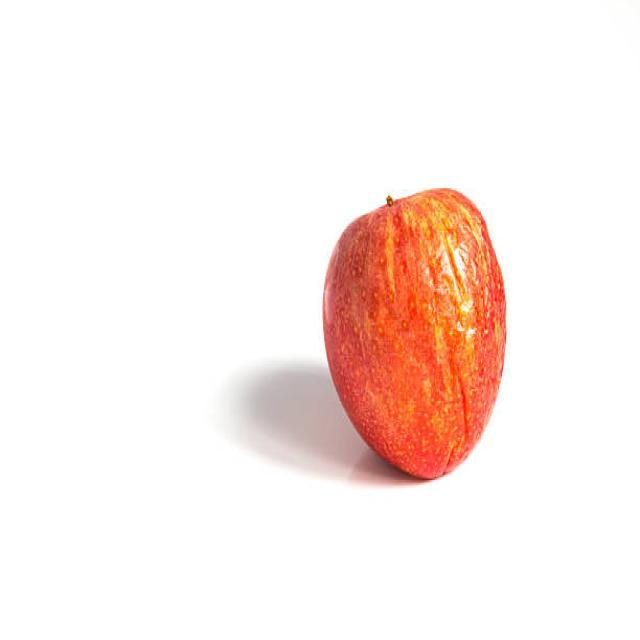overripe: (314, 178, 510, 486)
